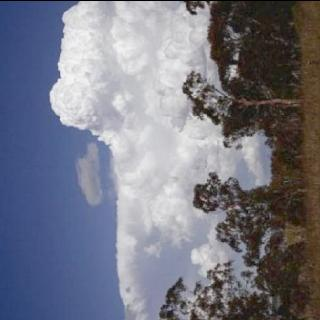Cumulonimbus: (0, 0, 259, 320)
